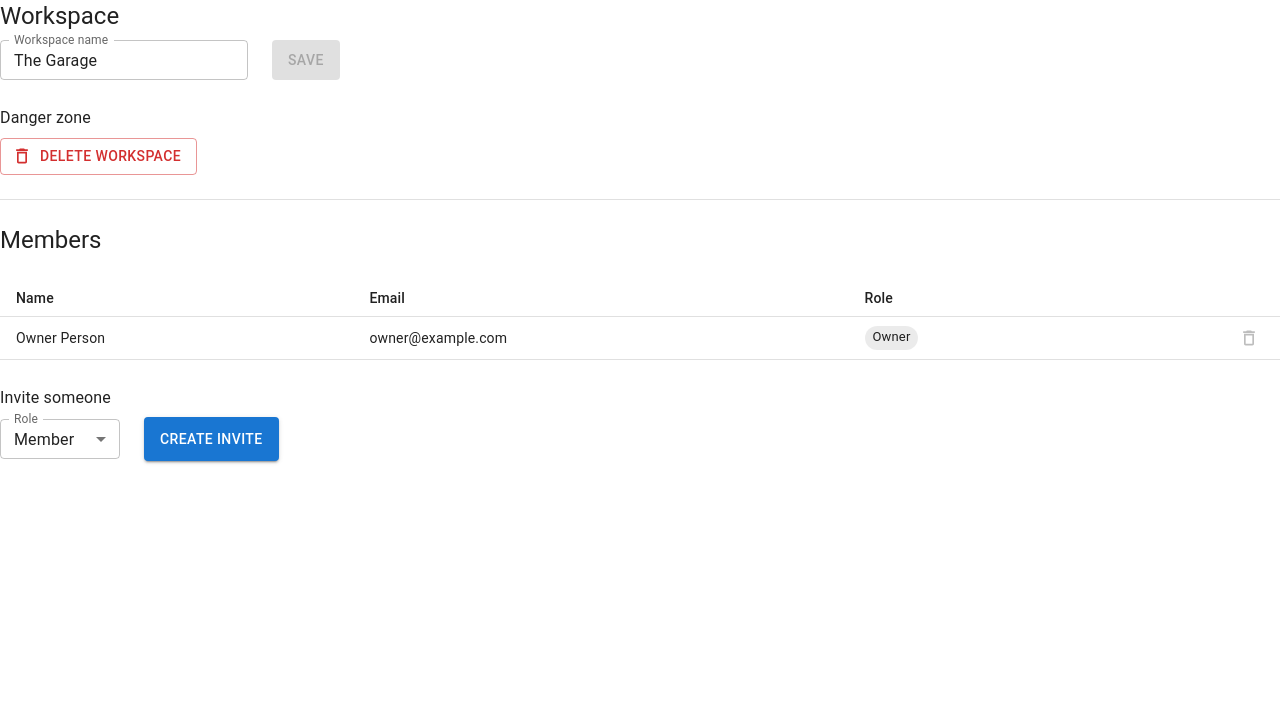
Scenario: MembersSettingsPage — workspace delete (EVT-47 AC2/AC4/AC5/AC6) › AC2/AC6: deletes the workspace, invalidates the cache, and closes the dialog
The image size is (1280, 720).
Expected: the field labelled "Workspace name" is shown, [0, 40, 248, 80]
Click the button "Delete workspace".
click(98, 156)  # box [0, 138, 197, 174]
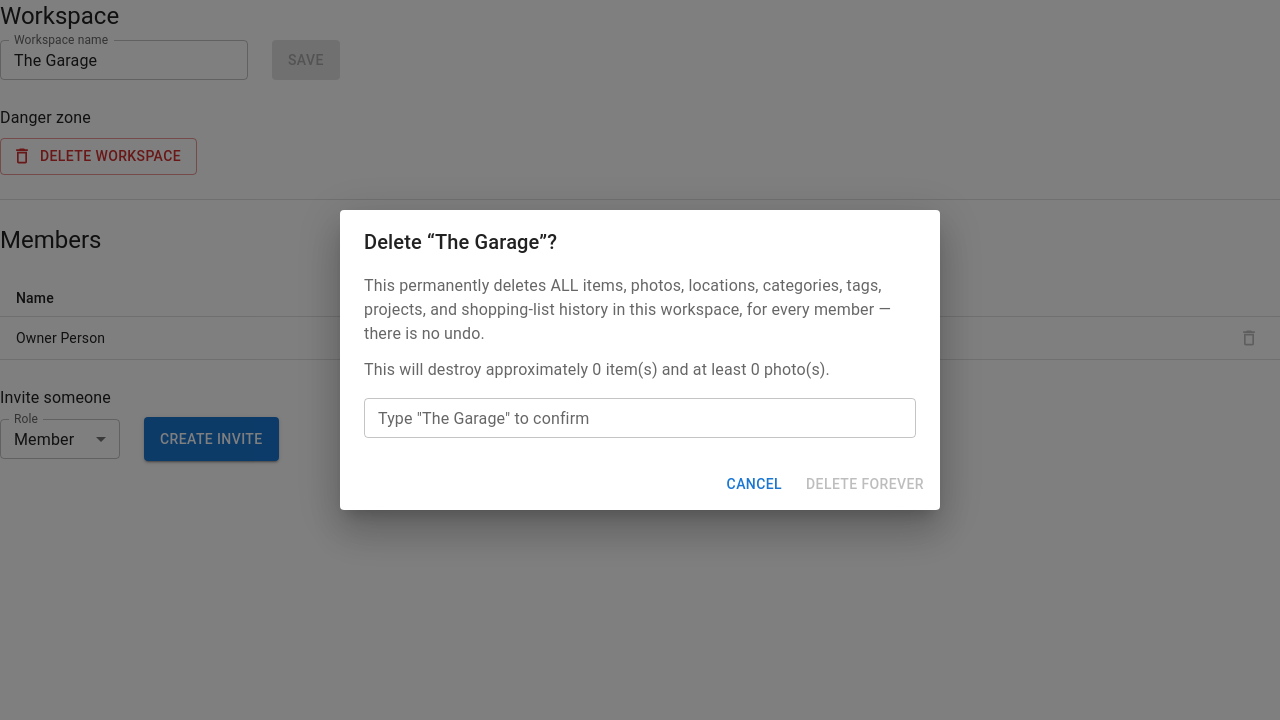
Type "The Garage" into the field named "Confirm workspace name".
click(640, 418); type("The Garage")  # box [364, 398, 916, 438]
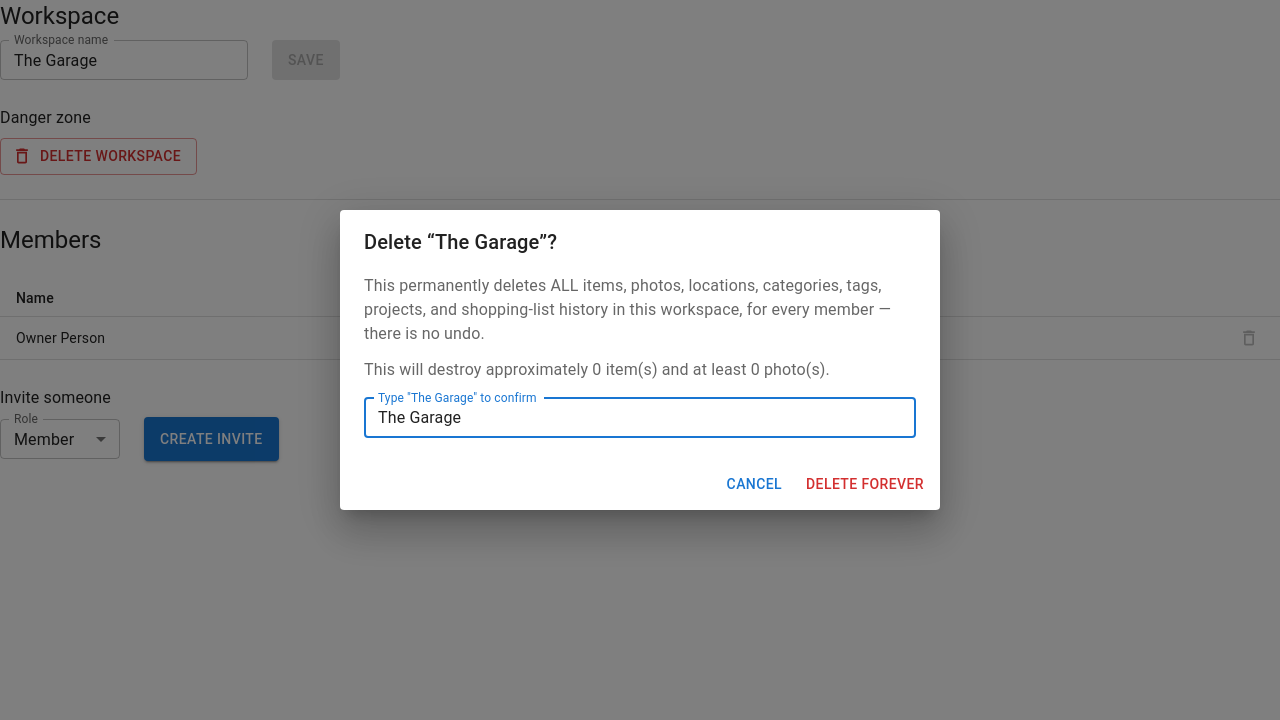
Click the button "Delete forever".
click(865, 484)  # box [798, 466, 932, 502]
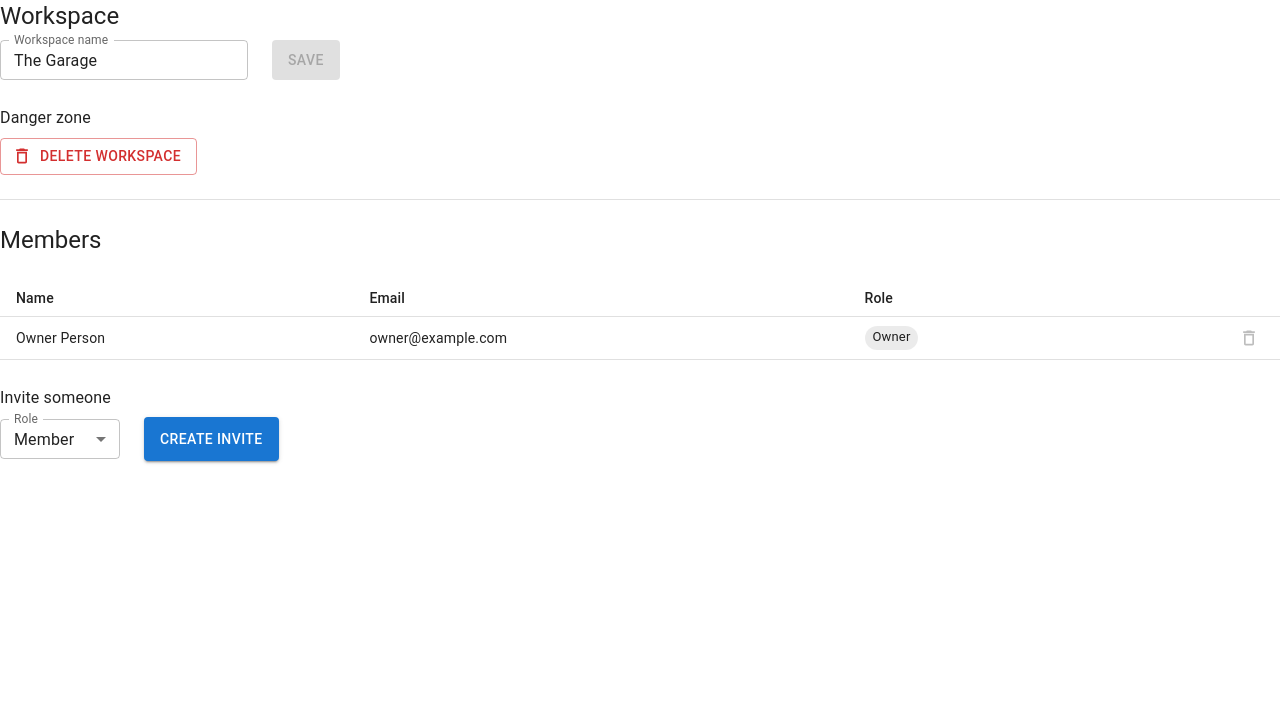
Now the dialog is gone
